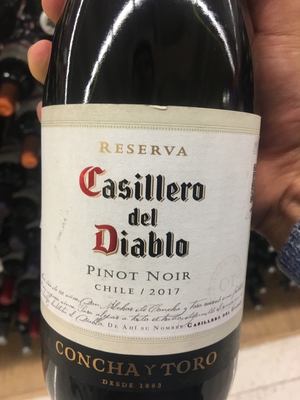casillero del diablo pinot noir: (40, 13, 268, 400)
